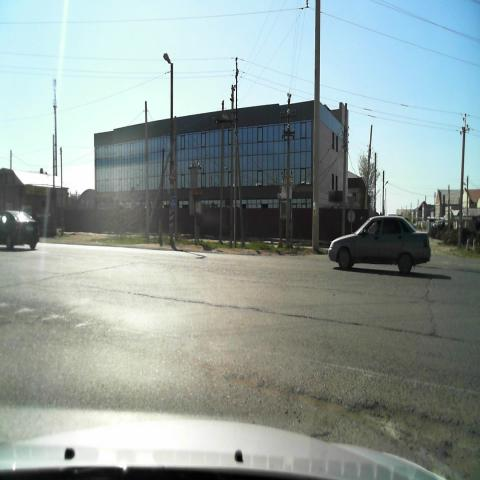1_23: (168, 168, 176, 180)
5_15_2_2: (169, 196, 176, 211)
